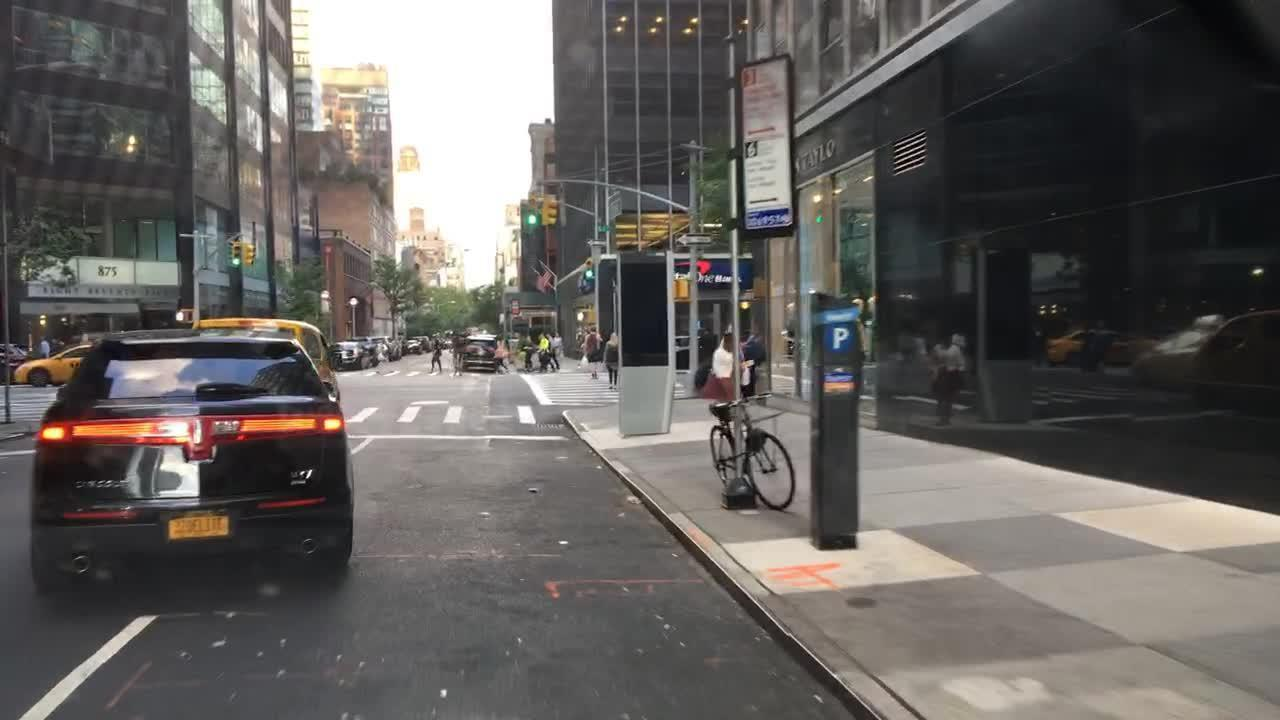lincoln: (189, 412, 211, 452)
